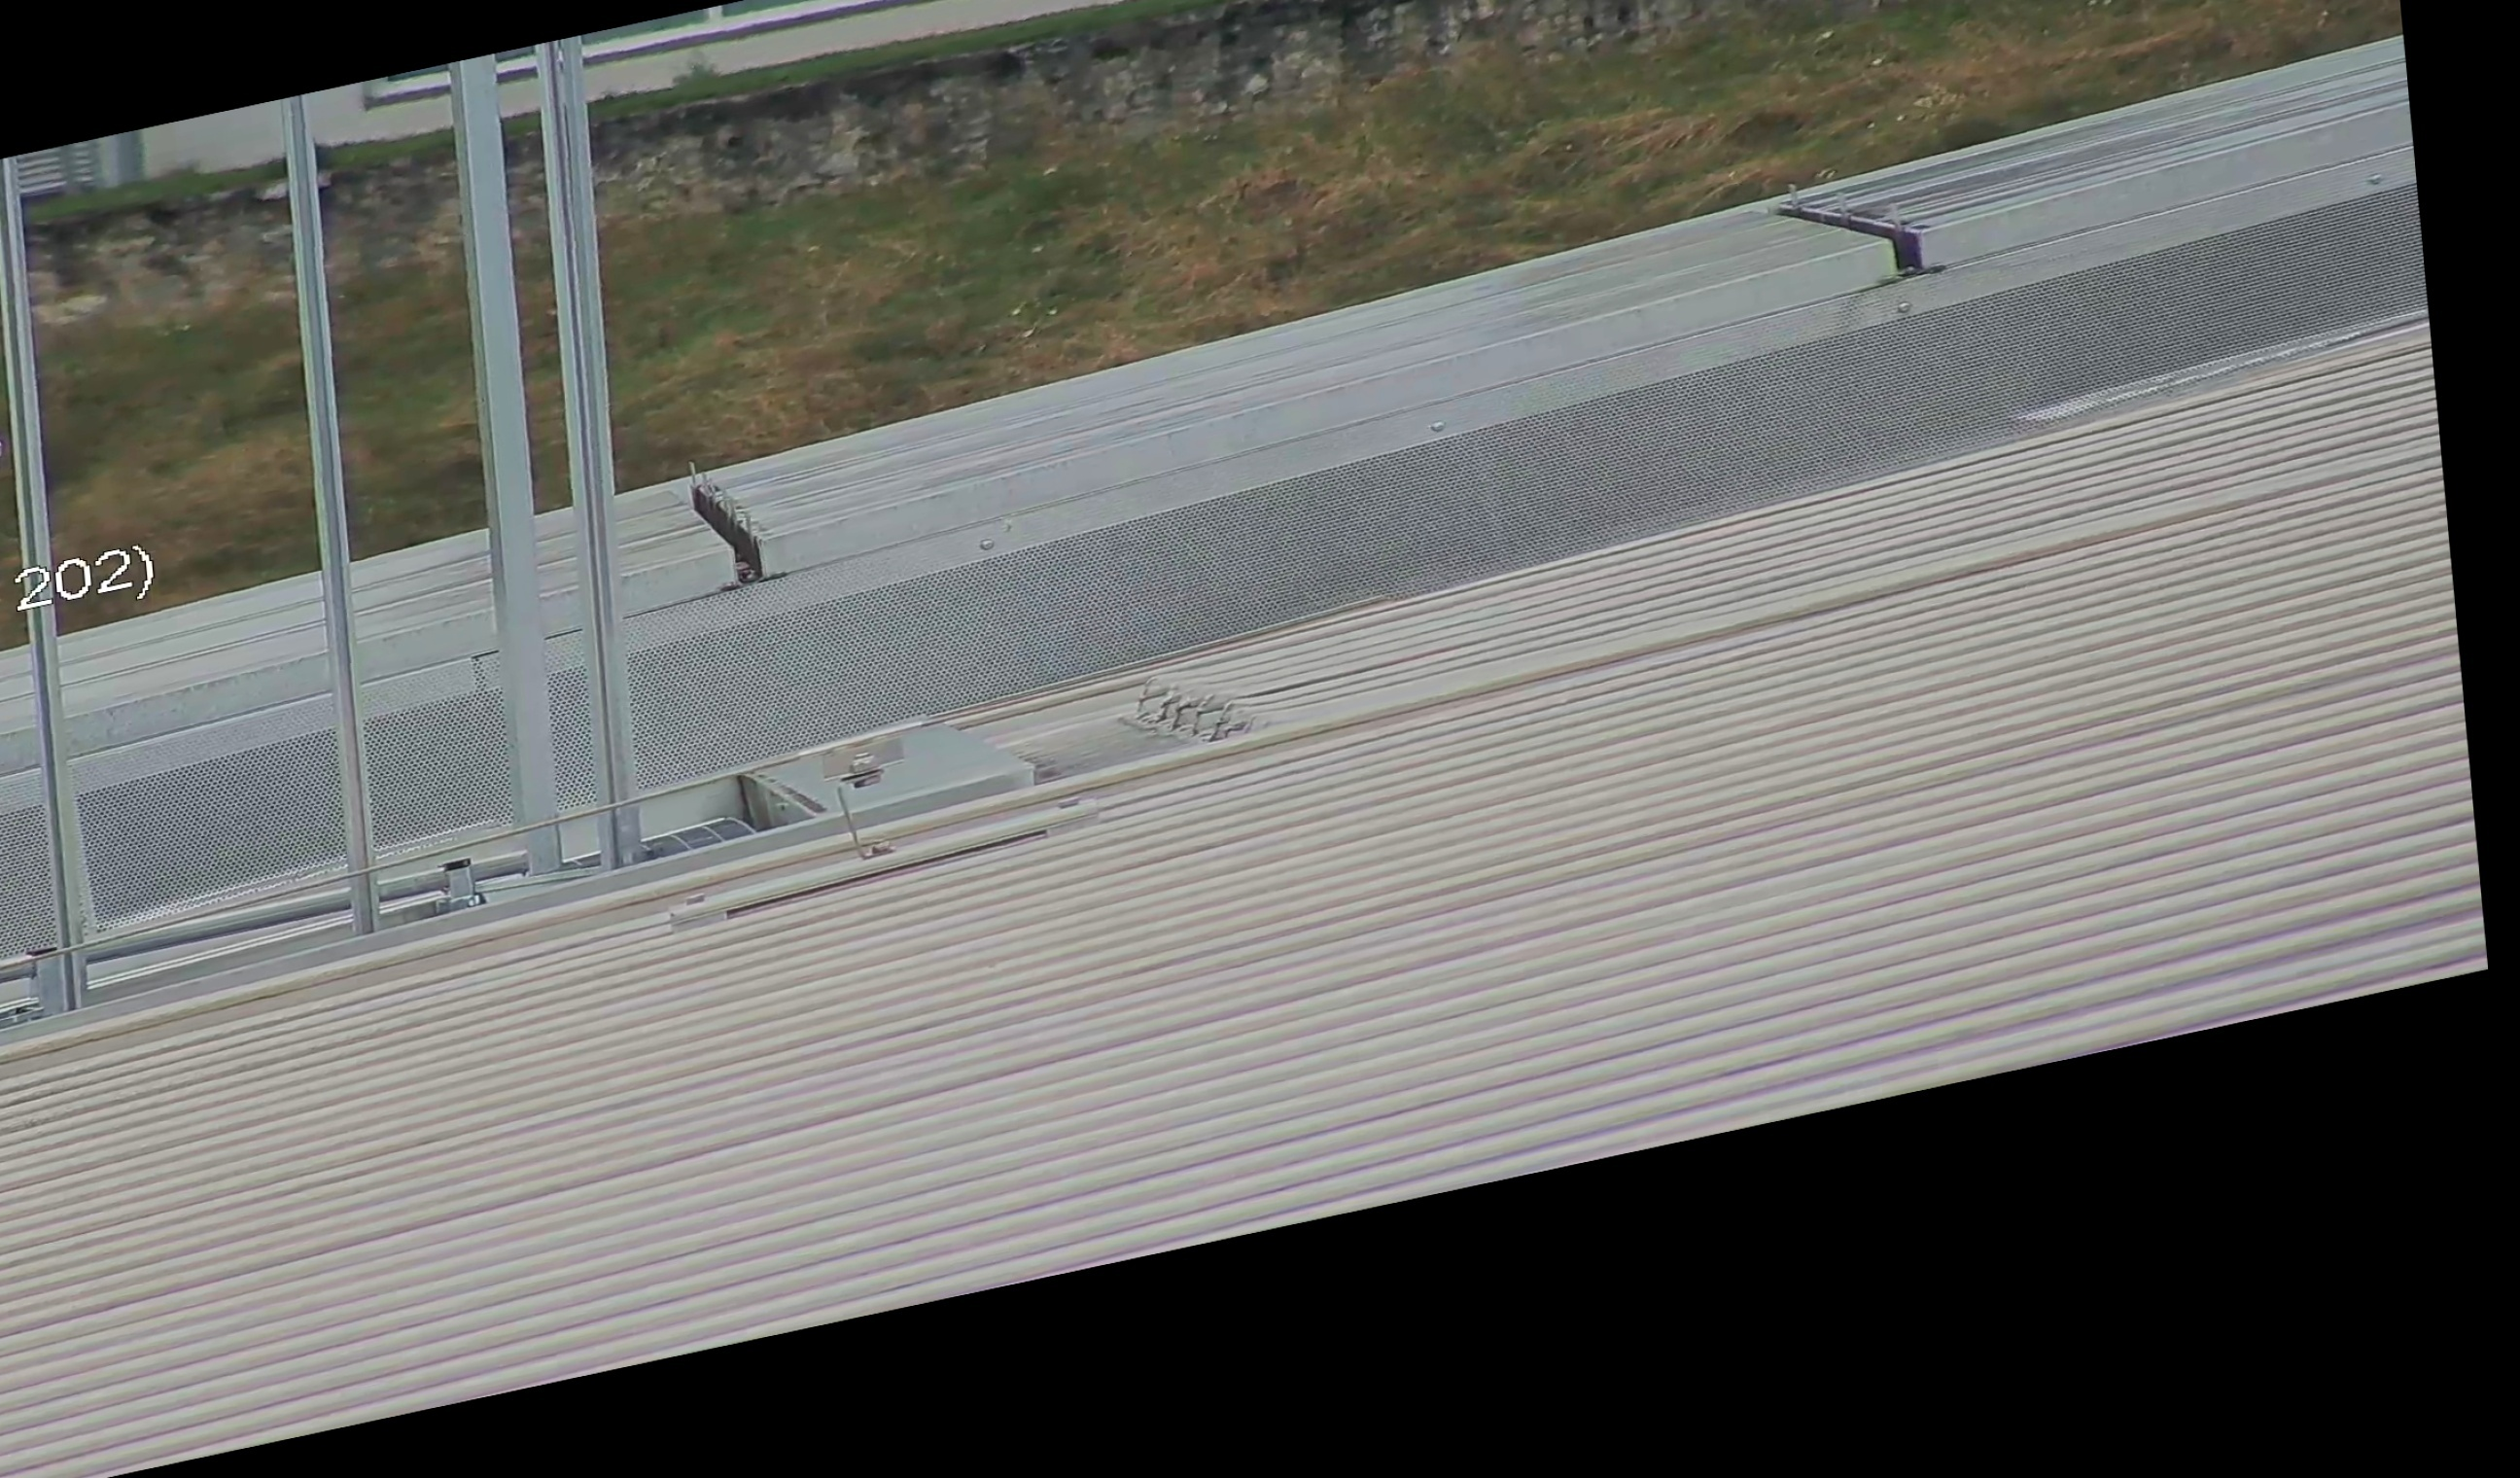Other: (666, 447, 784, 605)
